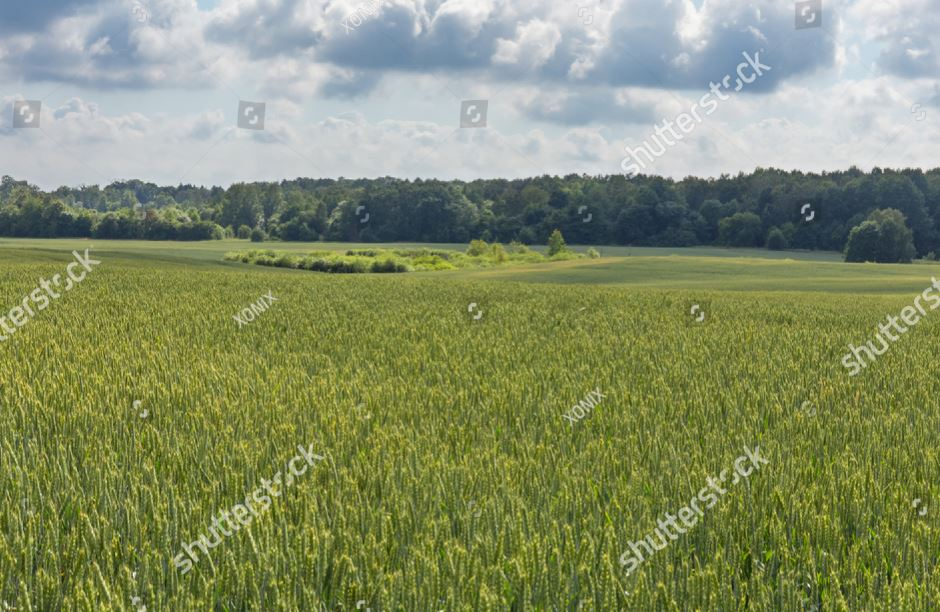Wheat: (67, 413, 558, 604)
